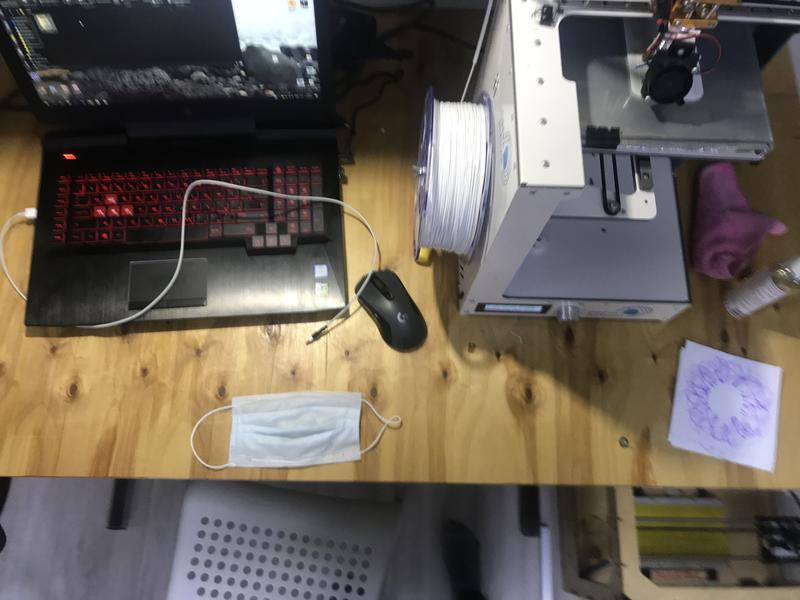medical_mask: (190, 391, 399, 468)
